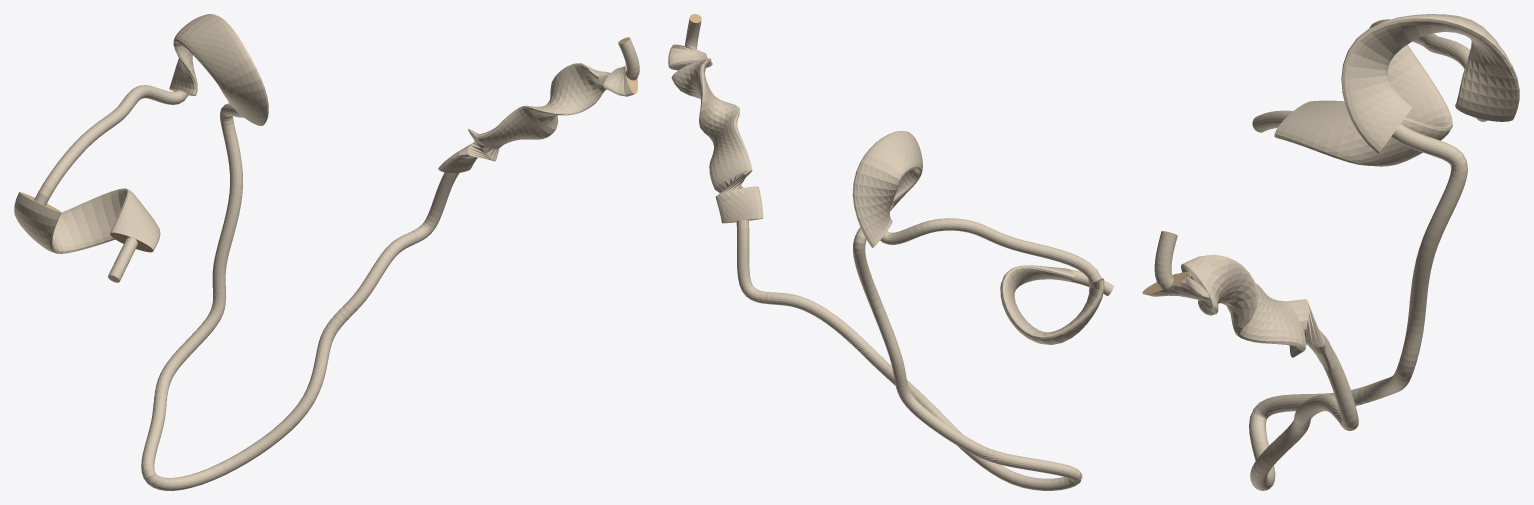
Rendered from fCoilfCoil.dae.
3 renders of one model, left to right at view 1: azimuth 30°, elevation 25°; view 2: azimuth 150°, elevation 25°; view 3: azimuth 270°, elevation 25°, orthographic. The views are drawn at different scales.
Parts seen in each view (by area): view 1: Shape_IndexedTriangleStripSet_027; view 2: Shape_IndexedTriangleStripSet_027; view 3: Shape_IndexedTriangleStripSet_027.
Boxes of the visible parts, x1=… form: Shape_IndexedTriangleStripSet_027: x1=14, y1=14, x2=639, y2=490; Shape_IndexedTriangleStripSet_027: x1=668, y1=14, x2=1113, y2=490; Shape_IndexedTriangleStripSet_027: x1=1142, y1=14, x2=1519, y2=490.
Size of the model in its own units: 23.74 by 11.12 by 16.73.
